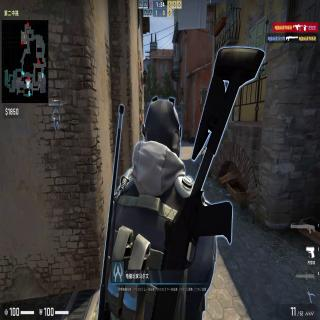CT-Head: (140, 96, 181, 156)
